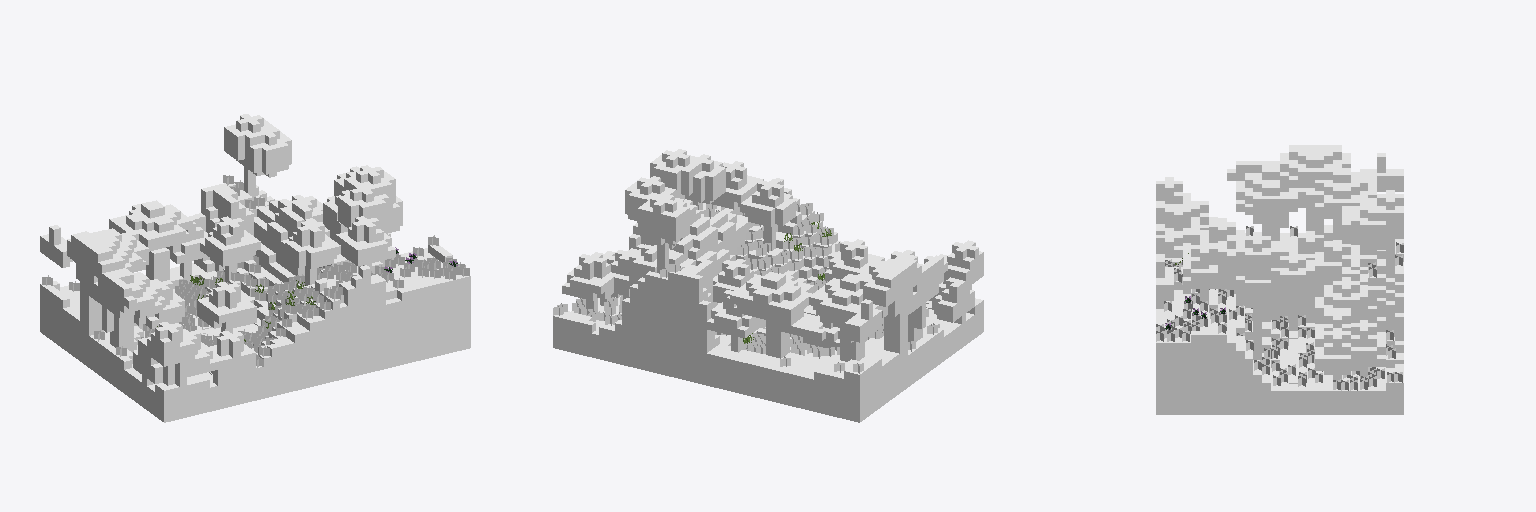
The picture shows the model from 3 angles: view 1: azimuth 30°, elevation 25°; view 2: azimuth 150°, elevation 25°; view 3: azimuth 270°, elevation 25°; orthographic projection.
Parts seen in each view (by area): view 1: mine_rtx__410_60_-180_to_449_220_-153; view 2: mine_rtx__410_60_-180_to_449_220_-153; view 3: mine_rtx__410_60_-180_to_449_220_-153.
Boxes of the visible parts, box(x1,y1,x2,y2) form: mine_rtx__410_60_-180_to_449_220_-153: box(40, 114, 470, 422); mine_rtx__410_60_-180_to_449_220_-153: box(553, 149, 983, 422); mine_rtx__410_60_-180_to_449_220_-153: box(1156, 145, 1403, 414).
Size of the model in its own units: 40.12 by 21 by 28.12.
38 materials, 2 textured.